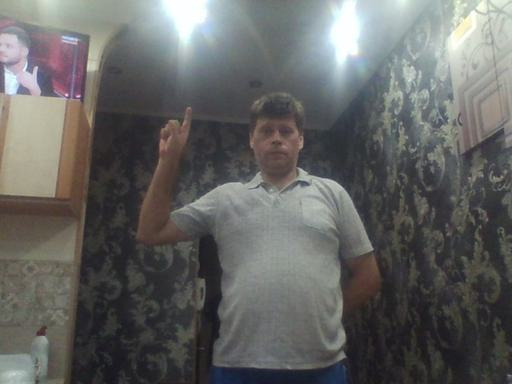one: (155, 100, 197, 165)
